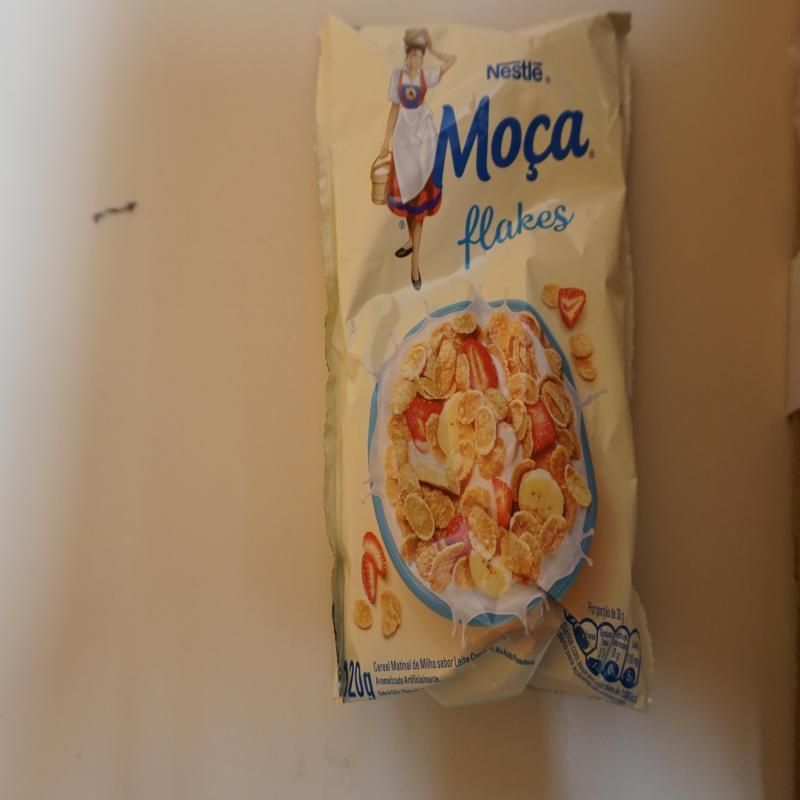CornFlakes: (315, 12, 656, 716)
